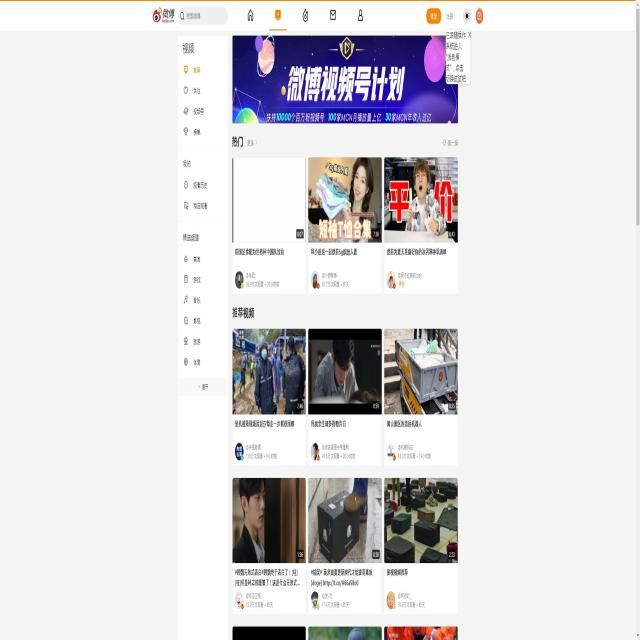button: (180, 377, 227, 396), (426, 8, 441, 24), (464, 8, 471, 24), (476, 8, 483, 24)
input: (178, 7, 228, 25)
